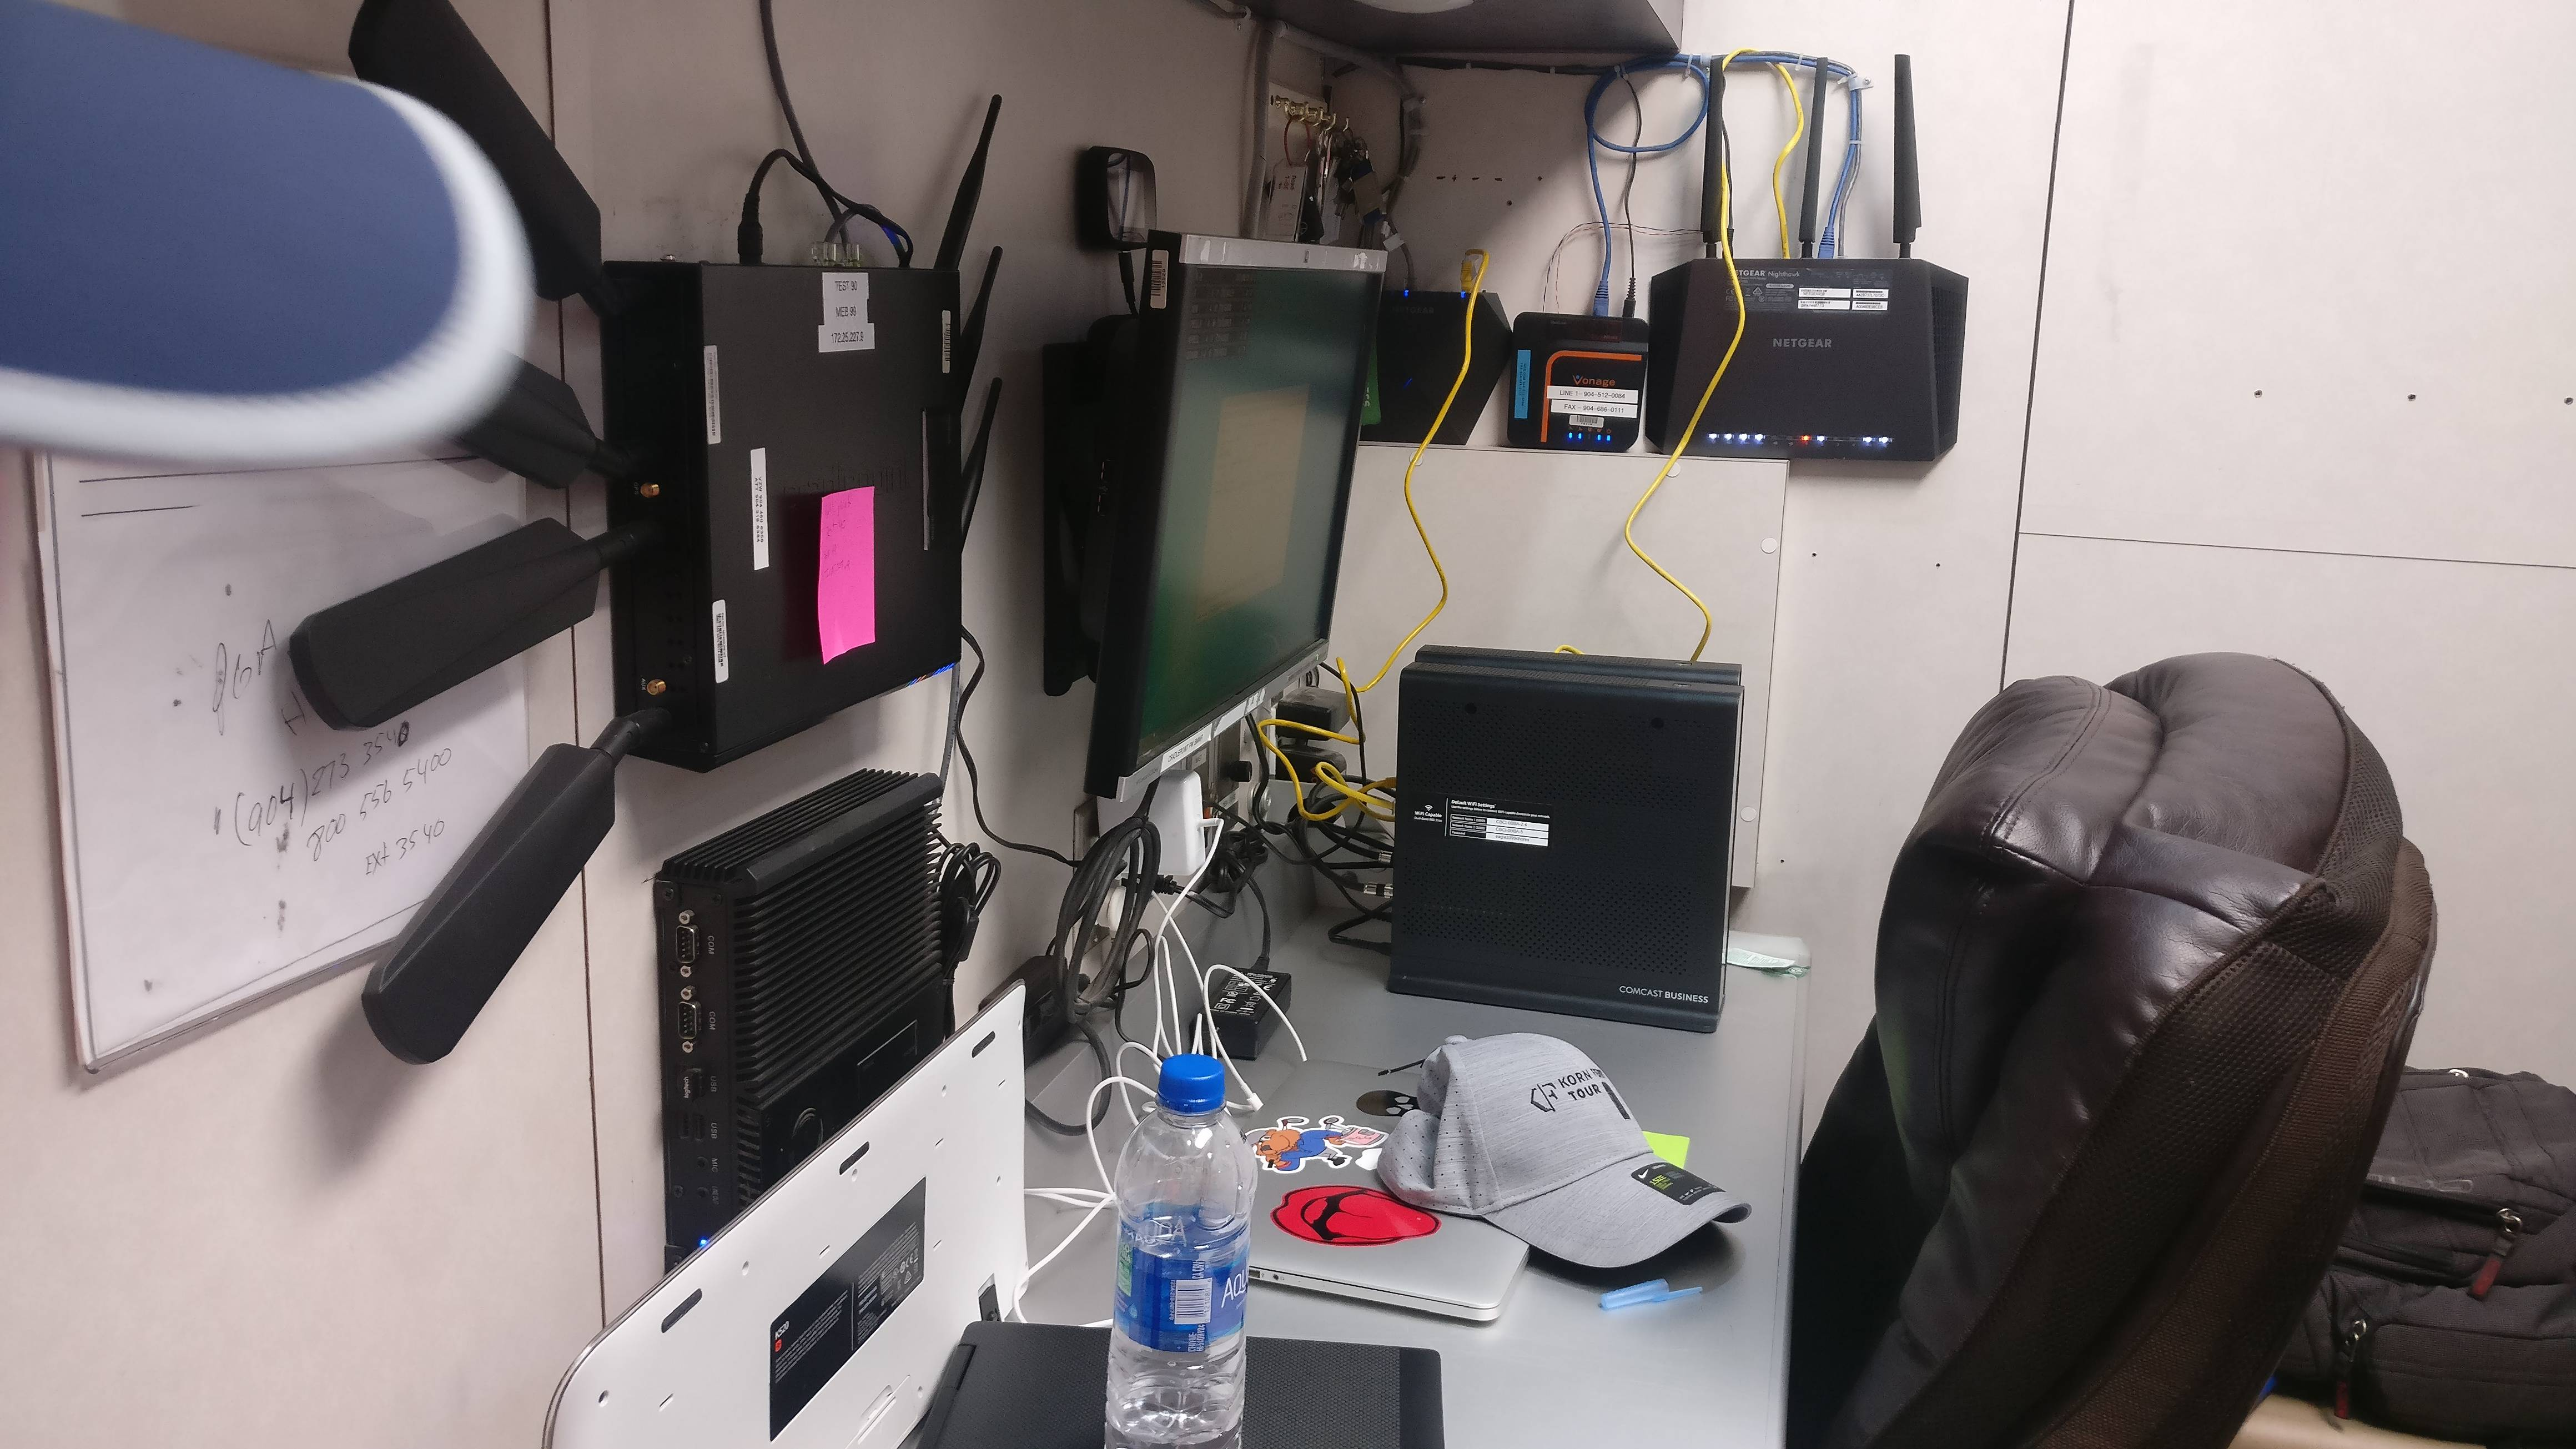Chair (Generic): (1801, 644, 2488, 1449)
Desk (Generic): (1546, 1348, 1771, 1433)
Laptop (OSX): (1212, 1049, 1576, 1290)
Monitor (Landscape): (1097, 251, 1417, 794)
Post-it Note: (1610, 1106, 1695, 1171)
Power Strip: (1085, 681, 1352, 904)
Router: (630, 267, 959, 725), (1405, 656, 1720, 1007), (1658, 232, 1999, 474), (1394, 646, 1755, 679)
Water Bottle: (1111, 1072, 1277, 1449)
